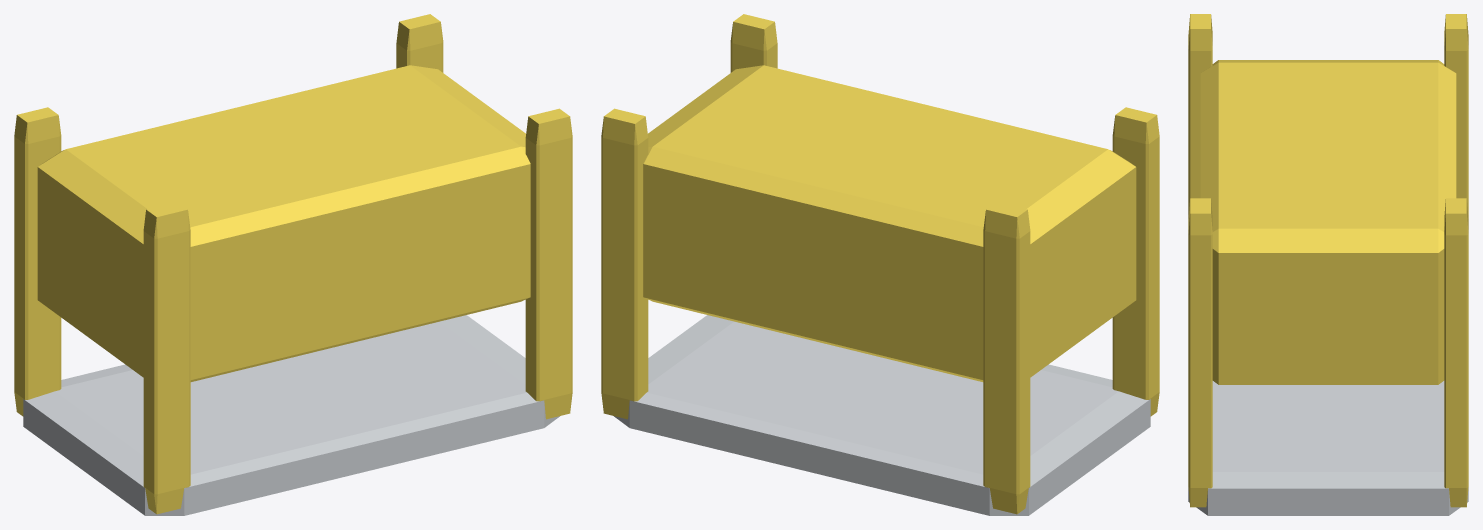
Rendered from b07_heavy_steel_shoring_trestle.glb.
The picture shows the model from 3 angles, left to right: view 1: azimuth 30°, elevation 25°; view 2: azimuth 150°, elevation 25°; view 3: azimuth 270°, elevation 25°; orthographic projection.
Parts seen in each view (by area): view 1: b07_heavy_steel_shoring_trestle; view 2: b07_heavy_steel_shoring_trestle; view 3: b07_heavy_steel_shoring_trestle.
Boxes of the visible parts, <box> form: b07_heavy_steel_shoring_trestle: <box>14,14,572,515</box>; b07_heavy_steel_shoring_trestle: <box>601,14,1159,515</box>; b07_heavy_steel_shoring_trestle: <box>1188,14,1468,515</box>.
Bounding box in the file's own units: 3.14 × 2.2 × 1.84.
